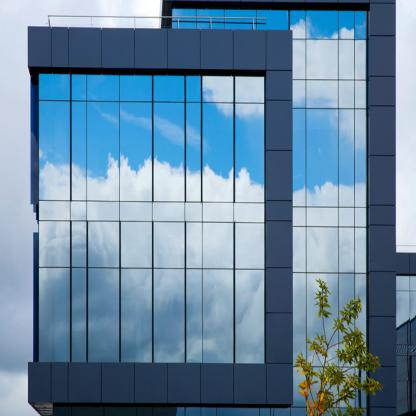window: (206, 274, 231, 359), (43, 106, 66, 196), (92, 272, 116, 358), (42, 272, 65, 356), (206, 109, 228, 196), (310, 114, 332, 200), (92, 108, 114, 192), (124, 108, 146, 192), (126, 272, 148, 356), (158, 274, 181, 354), (239, 109, 260, 195), (239, 276, 260, 359), (158, 109, 178, 194), (92, 227, 118, 264), (206, 227, 230, 264), (43, 226, 67, 261), (310, 231, 334, 265), (158, 227, 181, 262), (240, 227, 262, 263), (310, 45, 334, 75), (125, 228, 146, 262), (124, 75, 150, 94), (206, 78, 230, 98), (91, 77, 115, 96), (158, 80, 181, 97), (239, 79, 261, 96), (46, 77, 66, 95)
